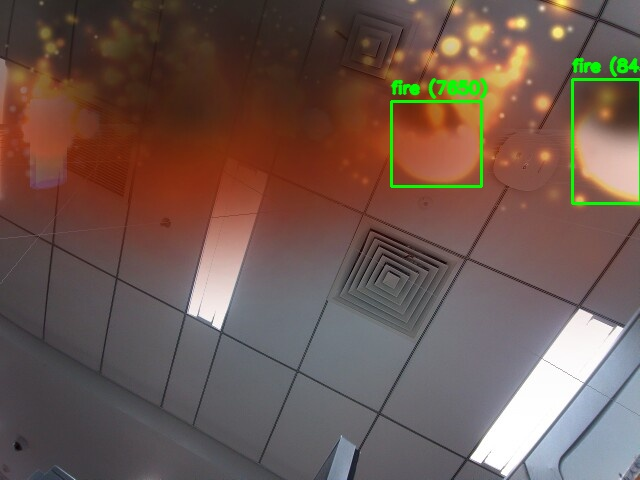fire: (572, 79, 640, 203), (391, 101, 481, 186)
